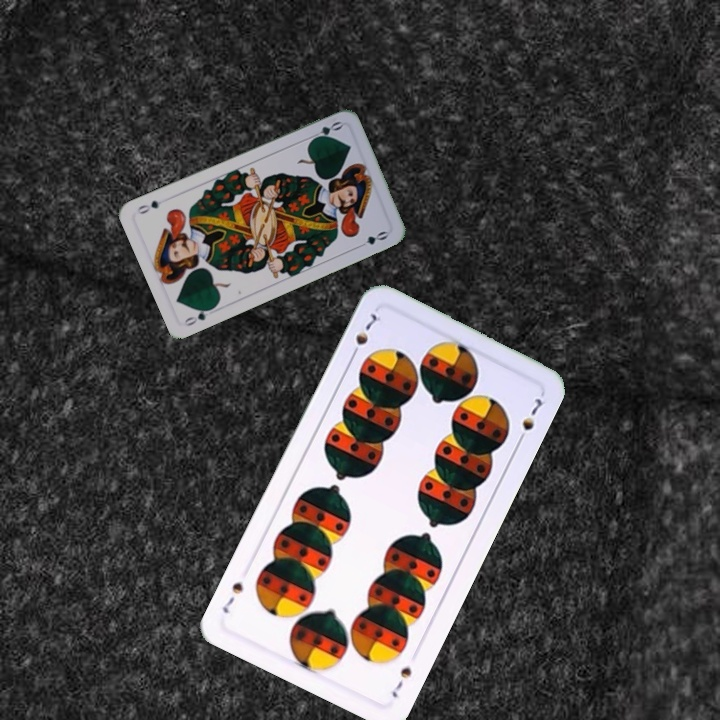GO: (305, 117, 345, 144), (180, 302, 218, 329)
S7: (346, 310, 384, 361), (387, 663, 415, 700)
